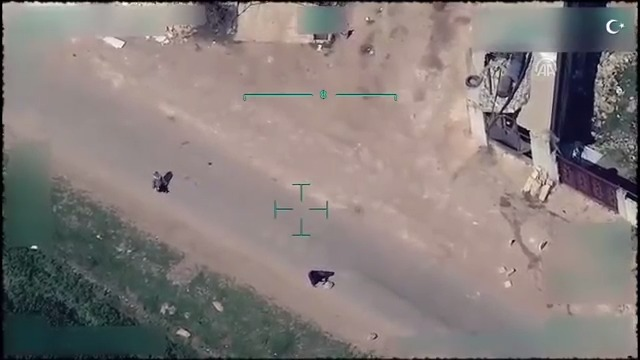insan: (150, 163, 168, 194)
